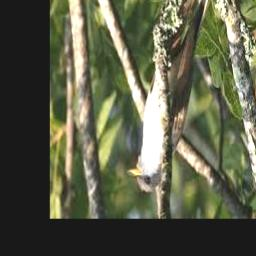Cuckoo: (127, 0, 212, 192)
